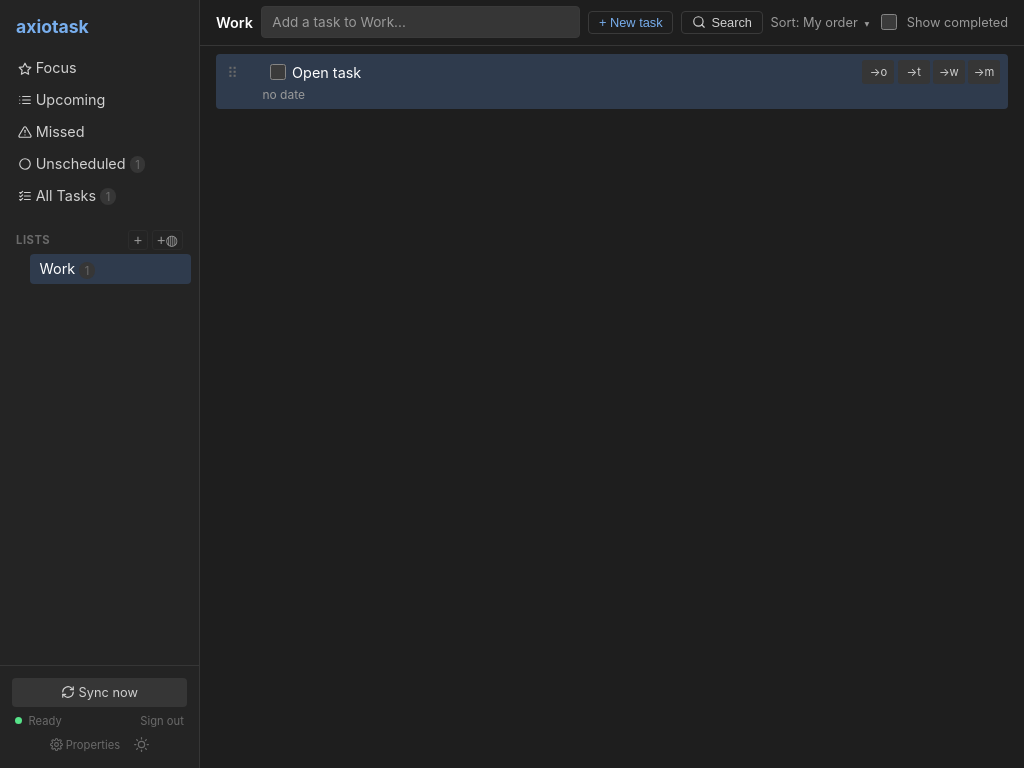
Scenario: GH#31: Clear completed tasks › Confirmation dialog › shows confirmation dialog when clicking Clear completed
Expected: the text "Open task" is shown, [292,64,361,81]
Click the checkbox labelled "Show completed" at [889, 22], box [881,14,897,30]
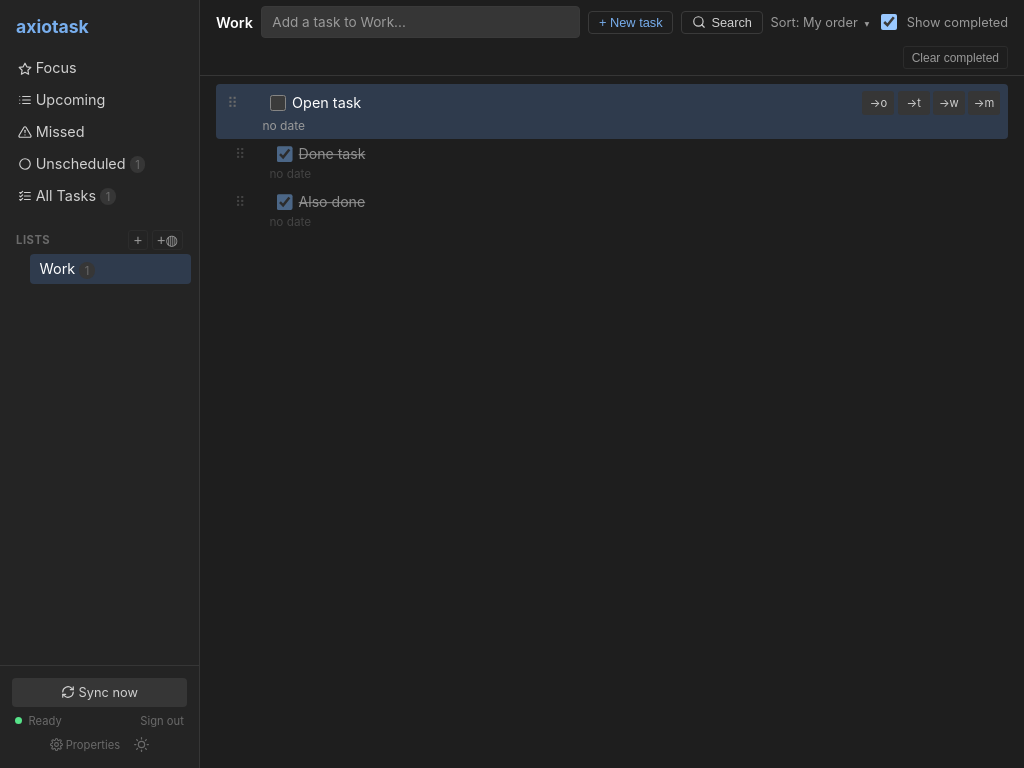
Expected: the text "Done task" is shown, [298,146,365,163]
Click the button "Clear completed" at [955, 58], box [903,46,1008,69]
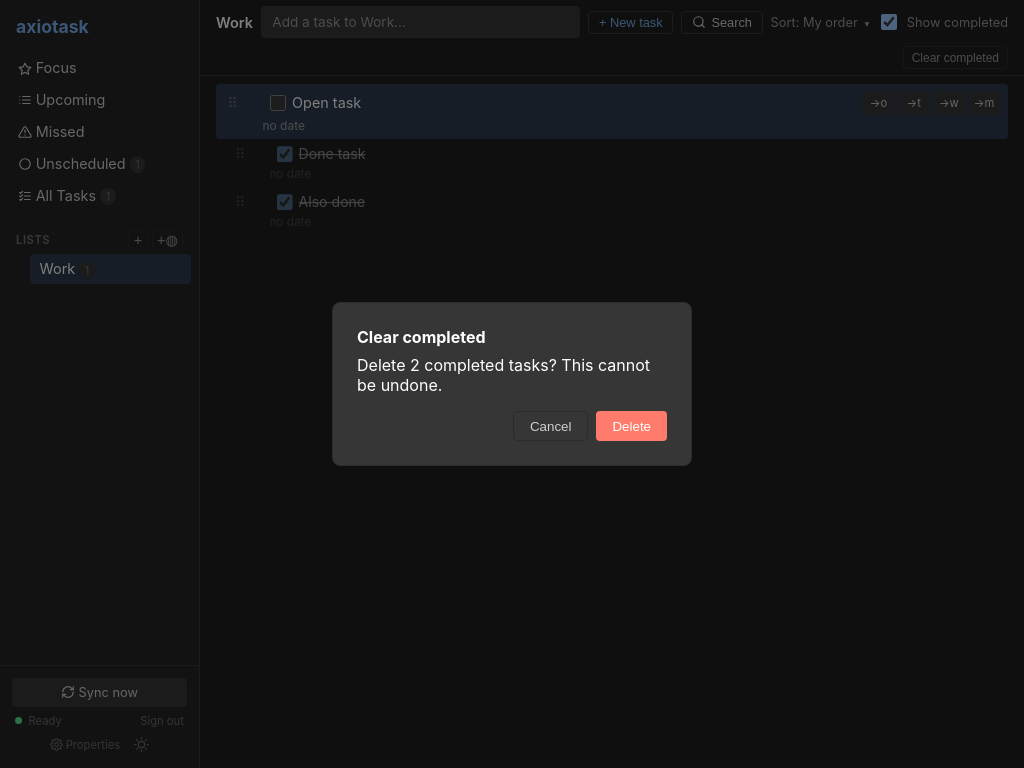
Expected: the text "Delete 2 completed tasks? This cannot be undone." is shown, [357,355,667,395]
